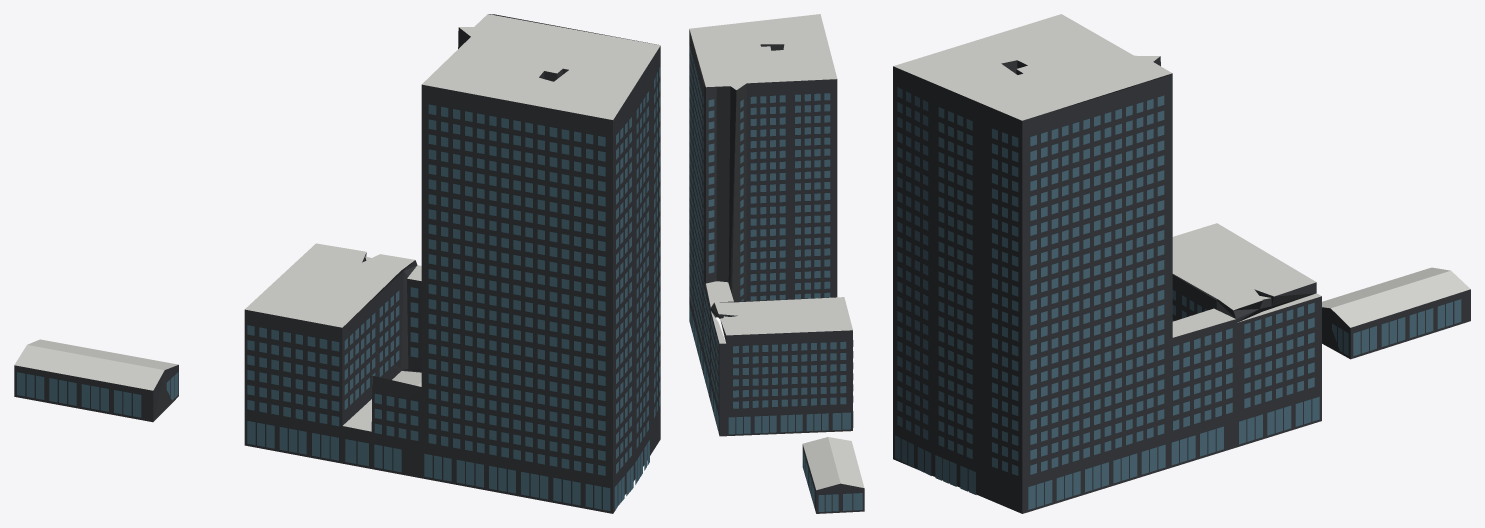
File: bercylaan-801-855.lod1.glb
3 renders of one model, left to right at view 1: azimuth 30°, elevation 25°; view 2: azimuth 150°, elevation 25°; view 3: azimuth 270°, elevation 25°, orthographic. The views are drawn at different scales.
Parts seen in each view (by area): view 1: bercylaan-801-855; view 2: bercylaan-801-855; view 3: bercylaan-801-855.
Part boxes in pixels (<box>): bercylaan-801-855: <box>14,14,660,513</box>; bercylaan-801-855: <box>689,14,864,513</box>; bercylaan-801-855: <box>893,14,1470,513</box>.
Size of the model in its own units: 92.63 by 78.98 by 105.
